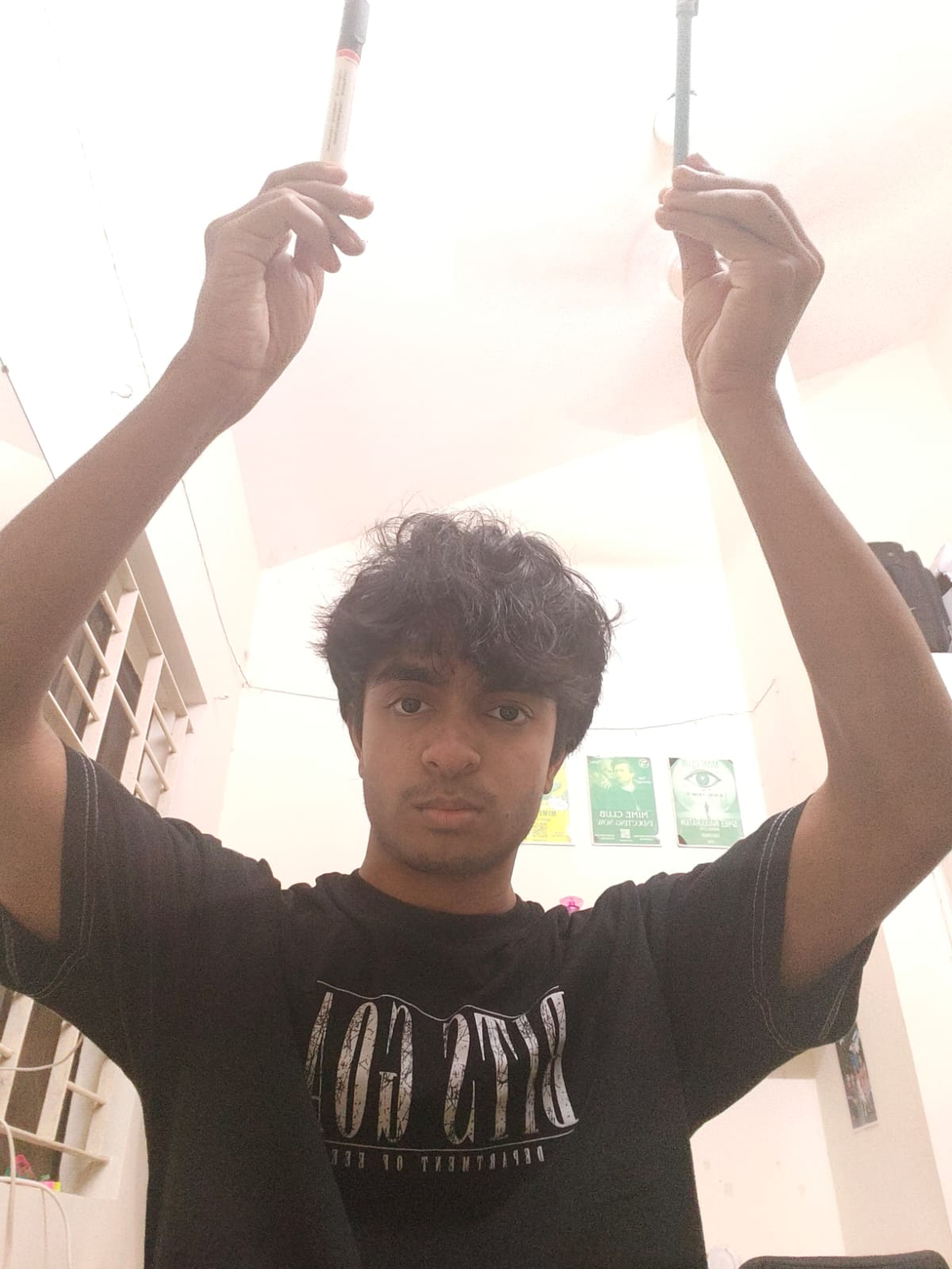case: (325, 29, 363, 188)
pen: (661, 25, 708, 204)
